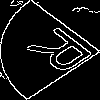R: (25, 24, 100, 84)
